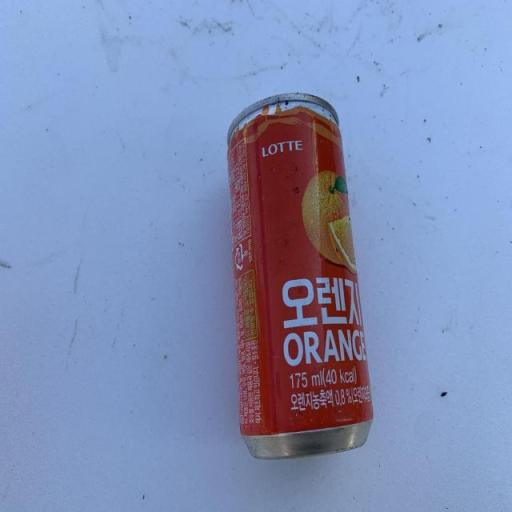metal: (196, 58, 406, 496)
